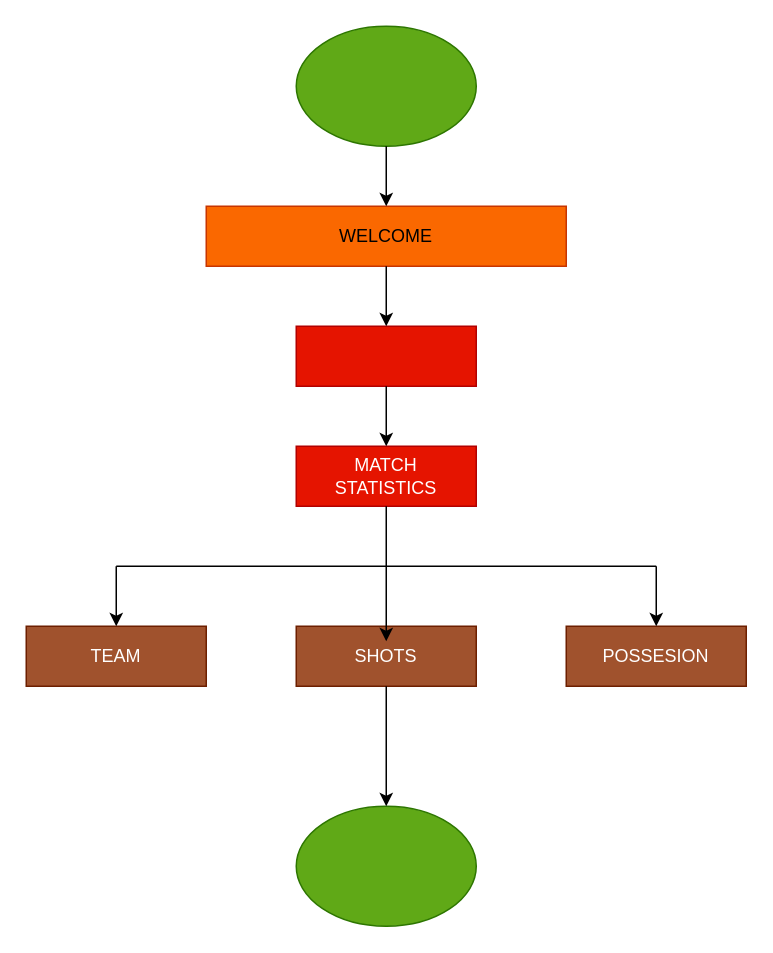
Some shapes in this 773 by 953 pixel diagram are drawn without their labels. The centre of each missing label's shape, as x and y in pixels:
"END" belongs at (385,865).
"START APP" belongs at (385,85).
"UP COMING MATCHS" belongs at (385,355).
